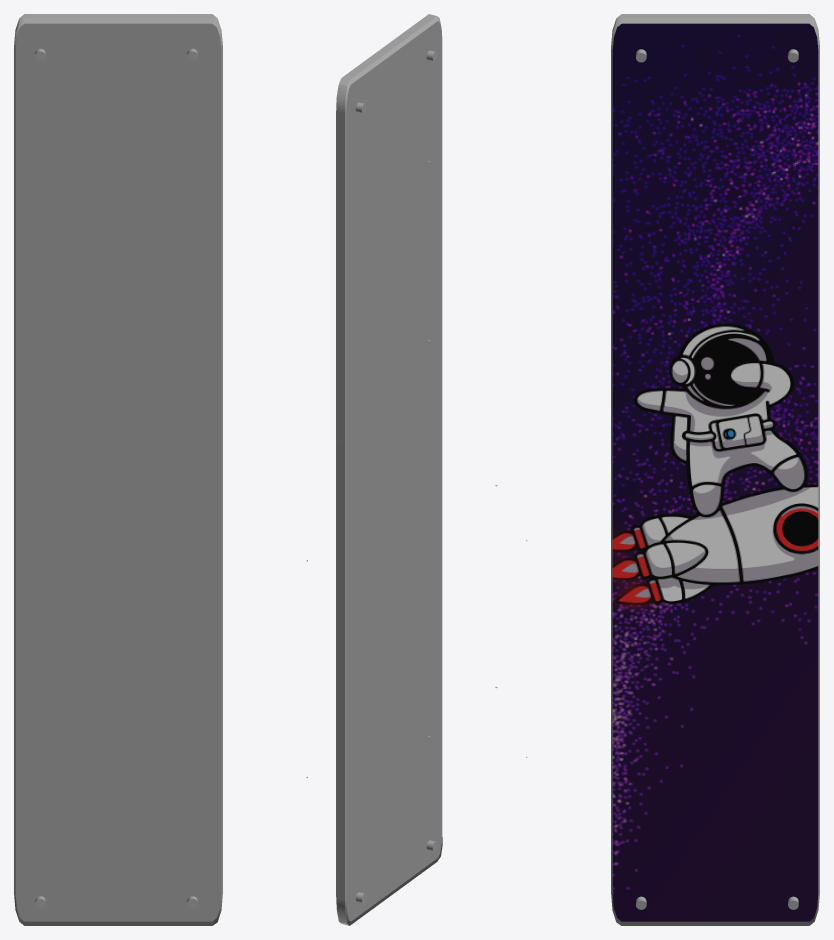
Rendered from DecorativeFrame2.fbx.
The picture shows the model from 3 angles, left to right: view 1: azimuth 90°, elevation 25°; view 2: azimuth 150°, elevation 25°; view 3: azimuth 270°, elevation 25°; orthographic projection. The views are drawn at different scales.
Parts seen in each view (by area): view 1: picture; view 2: picture; view 3: picture.
Boxes of the visible parts, left/top/right/bottom form: picture: left=14, top=14, right=222, bottom=925; picture: left=336, top=14, right=442, bottom=925; picture: left=611, top=14, right=819, bottom=925.
Bounding box in the file's own units: 0.0812 × 2.05 × 0.6025.
4 materials, 1 textured.
